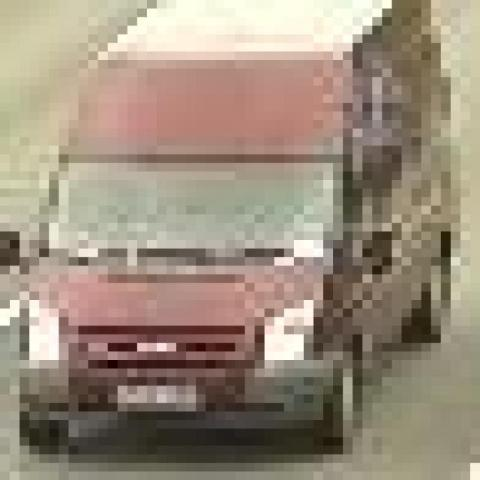van: (25, 5, 446, 451)
